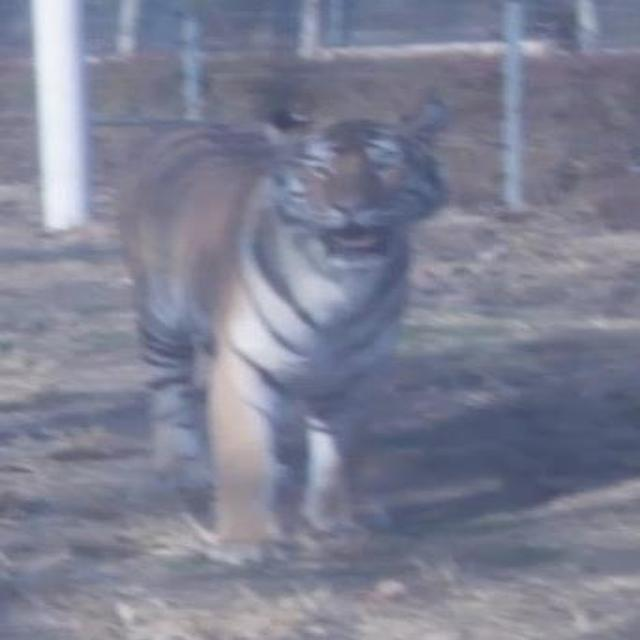tiger: (116, 86, 452, 553)
